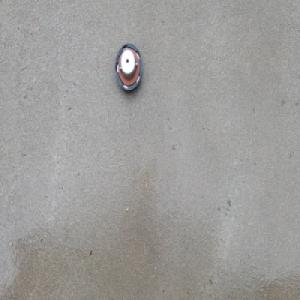FuelCap: (114, 41, 143, 92)
